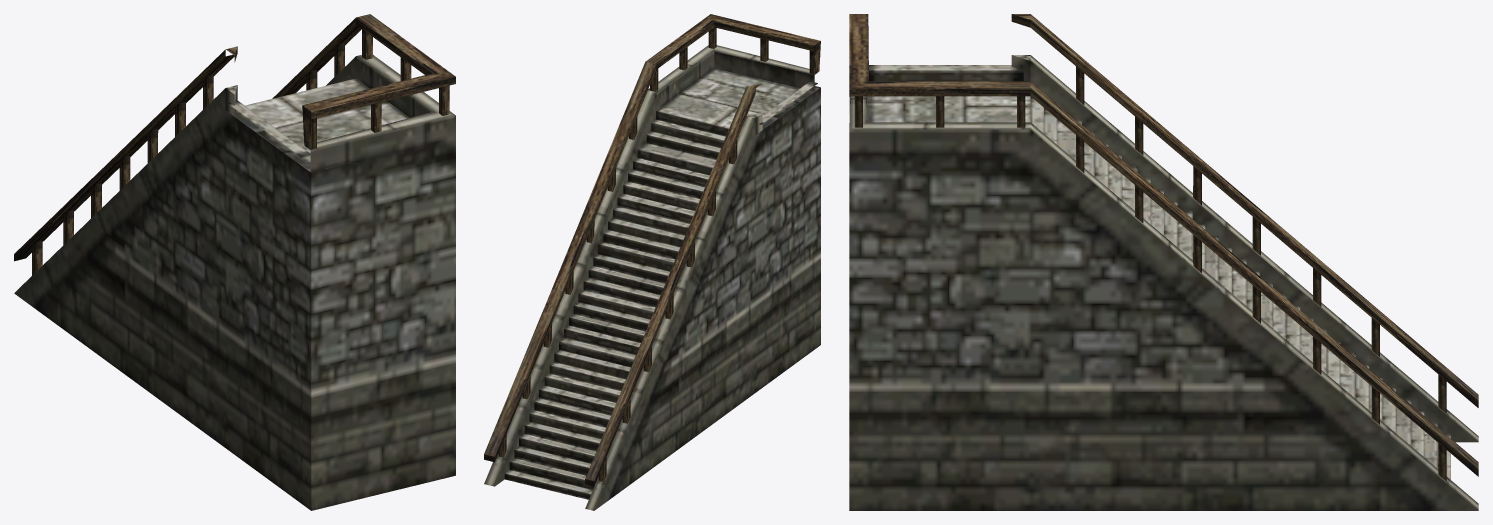
File: general_obj_watchtower03.glb
The picture shows the model from 3 angles, left to right: view 1: azimuth 30°, elevation 25°; view 2: azimuth 150°, elevation 25°; view 3: azimuth 270°, elevation 25°; orthographic projection. The views are drawn at different scales.
Visible parts, largest first — view 1: Object02; view 2: Object02; view 3: Object02.
Part boxes in pixels (x1,y1,x2,y2): Object02: (14, 14, 455, 510); Object02: (484, 14, 820, 510); Object02: (849, 14, 1478, 510).
Bounding box in the file's own units: 2.91 × 7.49 × 10.12.
1 material, 1 textured.
